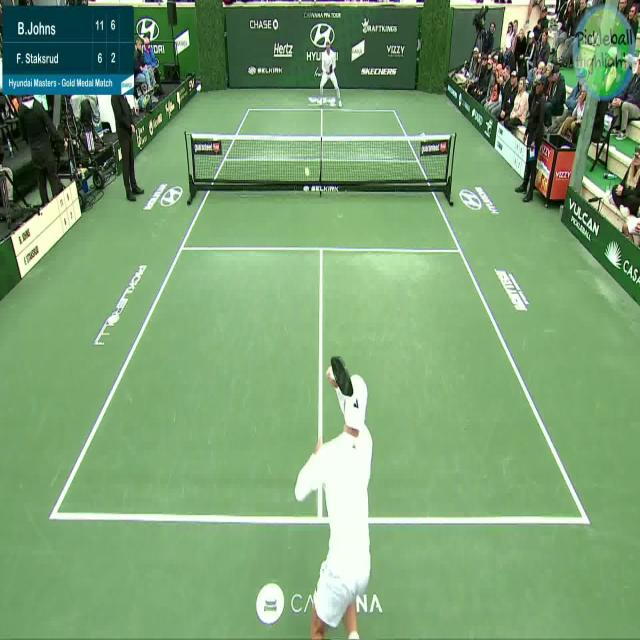ball: (301, 159, 313, 181)
